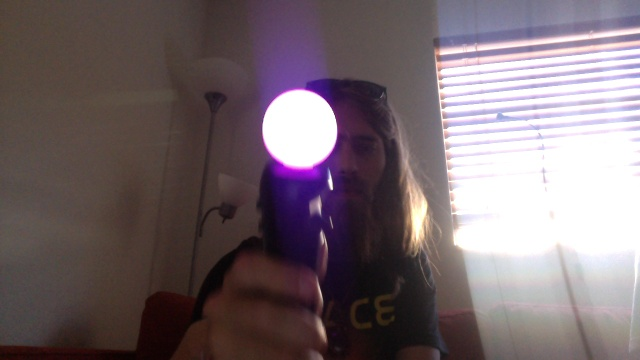wand: (263, 89, 338, 170)
